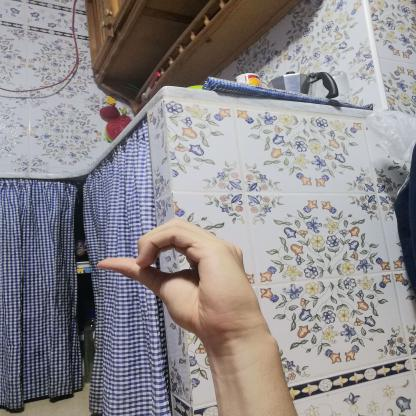WAW: (81, 211, 274, 349)
